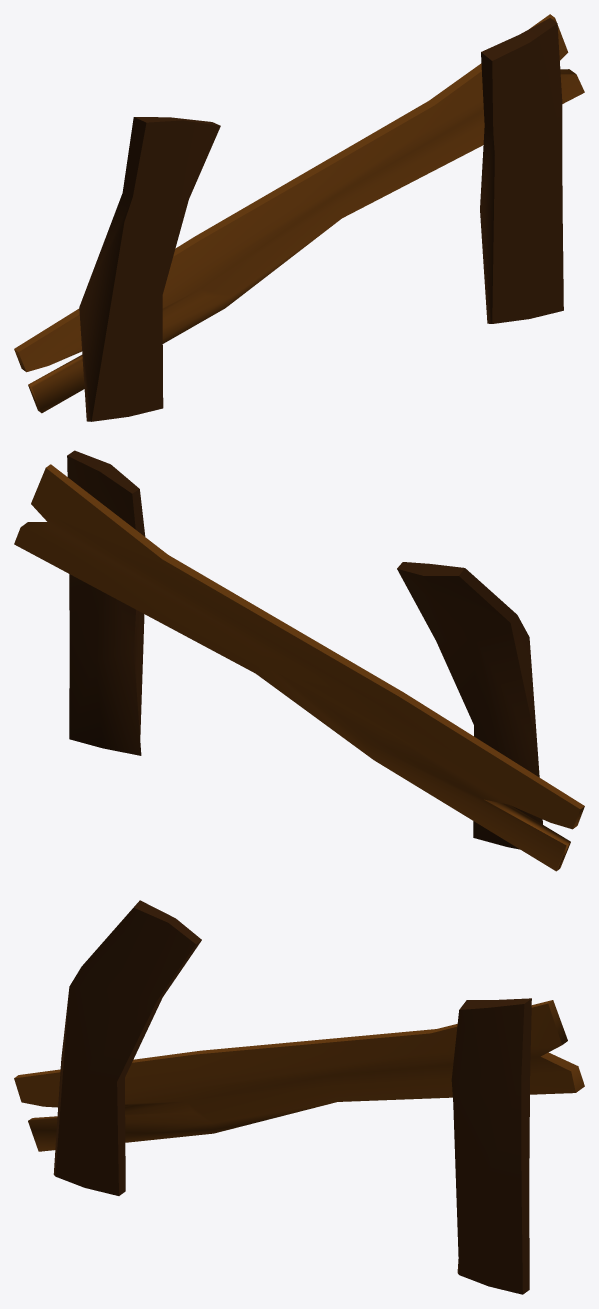
File: Cerca de Madera Rota.fbx
The picture shows the model from 3 angles, top to bottom: view 1: azimuth 30°, elevation 25°; view 2: azimuth 150°, elevation 25°; view 3: azimuth 330°, elevation 25°; orthographic projection.
Visible parts, largest first — view 1: Madera_15; view 2: Madera_15; view 3: Madera_15.
Boxes of the visible parts, x1,y1,x2,y2 form: Madera_15: (14,14,584,421); Madera_15: (14,450,584,871); Madera_15: (14,900,584,1294).
Bounding box in the file's own units: 593 × 288 × 55.45.
